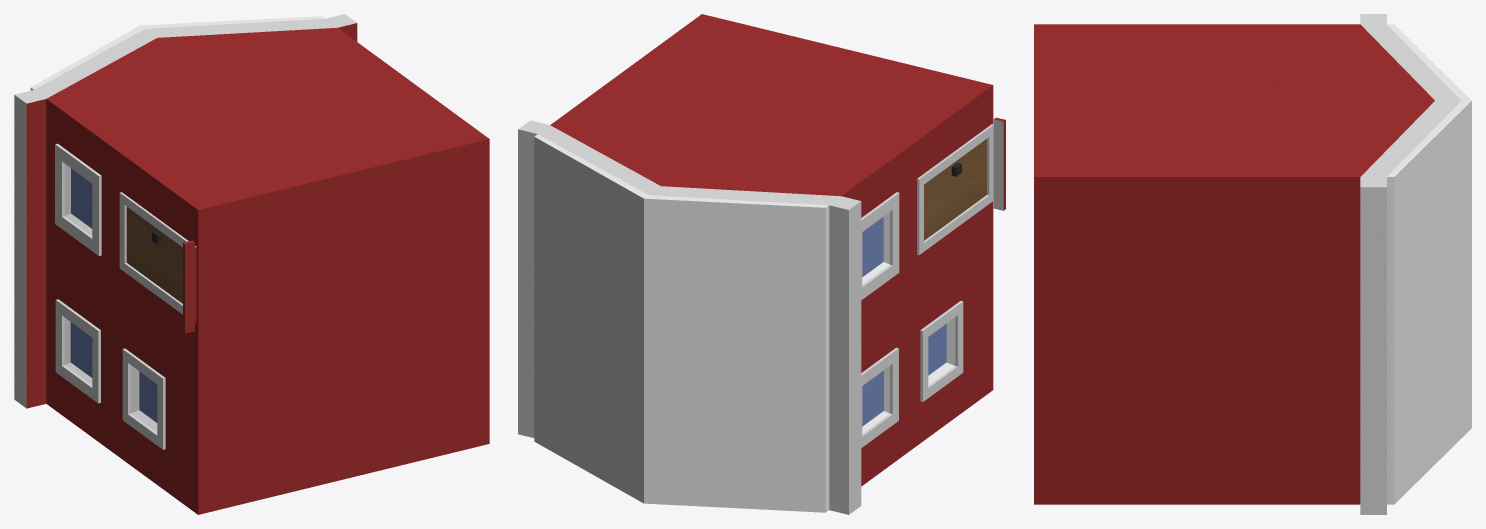
The model's file is venice_murano_10.fbx.
3 renders of one model, left to right at view 1: azimuth 30°, elevation 25°; view 2: azimuth 150°, elevation 25°; view 3: azimuth 270°, elevation 25°, orthographic. The views are drawn at different scales.
Visible parts, largest first — view 1: Cube.332; view 2: Cube.332; view 3: Cube.332.
Part boxes in pixels (x1,y1,x2,y2): Cube.332: (14, 14, 489, 514); Cube.332: (518, 14, 1005, 514); Cube.332: (1034, 14, 1471, 514).
Bounding box in the file's own units: 897 × 790 × 956.
